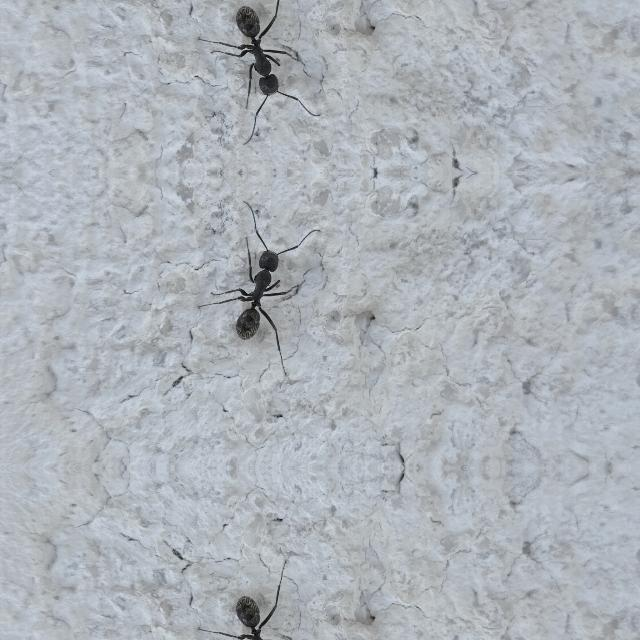Camponotus: (228, 220, 300, 348), (228, 0, 300, 124), (228, 586, 300, 640)
